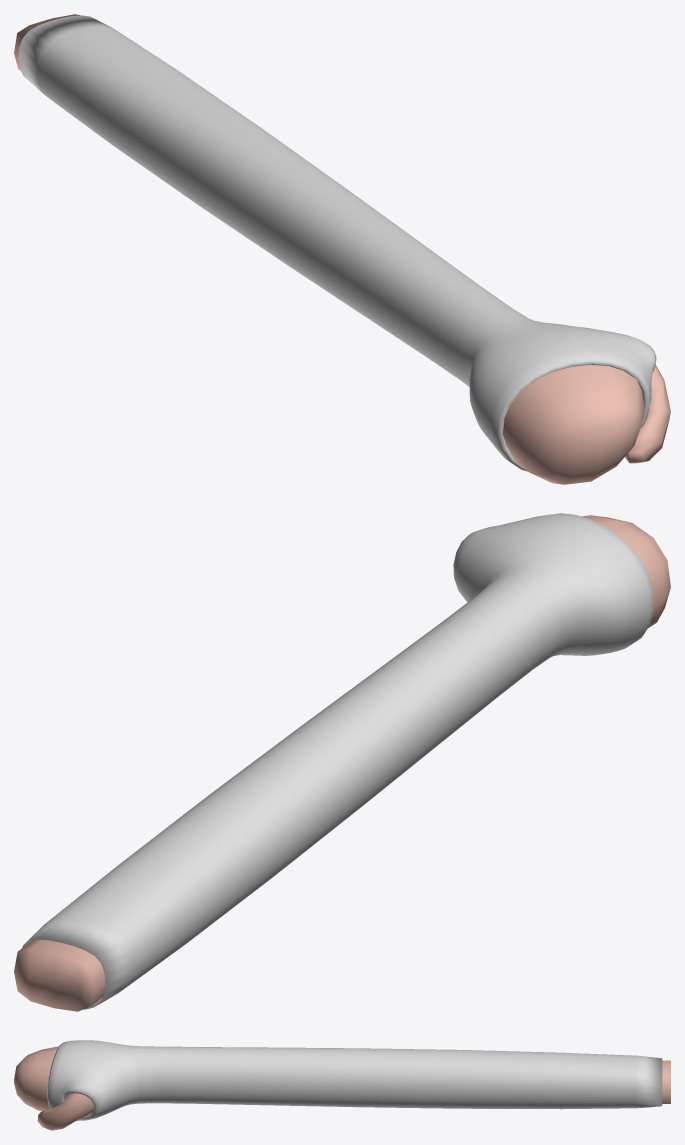
The model's file is Arm.fbx.
The picture shows the model from 3 angles, top to bottom: view 1: azimuth 30°, elevation 25°; view 2: azimuth 150°, elevation 25°; view 3: azimuth 270°, elevation 25°; orthographic projection. The views are drawn at different scales.
Visible parts, largest first — view 1: Plane.002, Plane; view 2: Plane.002, Plane; view 3: Plane.002, Plane.
Part boxes in pixels (x1,y1,x2,y2): Plane.002: (18, 15, 656, 471); Plane: (14, 14, 670, 484); Plane.002: (22, 513, 653, 1009); Plane: (14, 515, 670, 1011); Plane.002: (47, 1040, 662, 1120); Plane: (14, 1046, 670, 1130).
Bounding box in the file's own units: 46.71 × 30.8 × 264.
